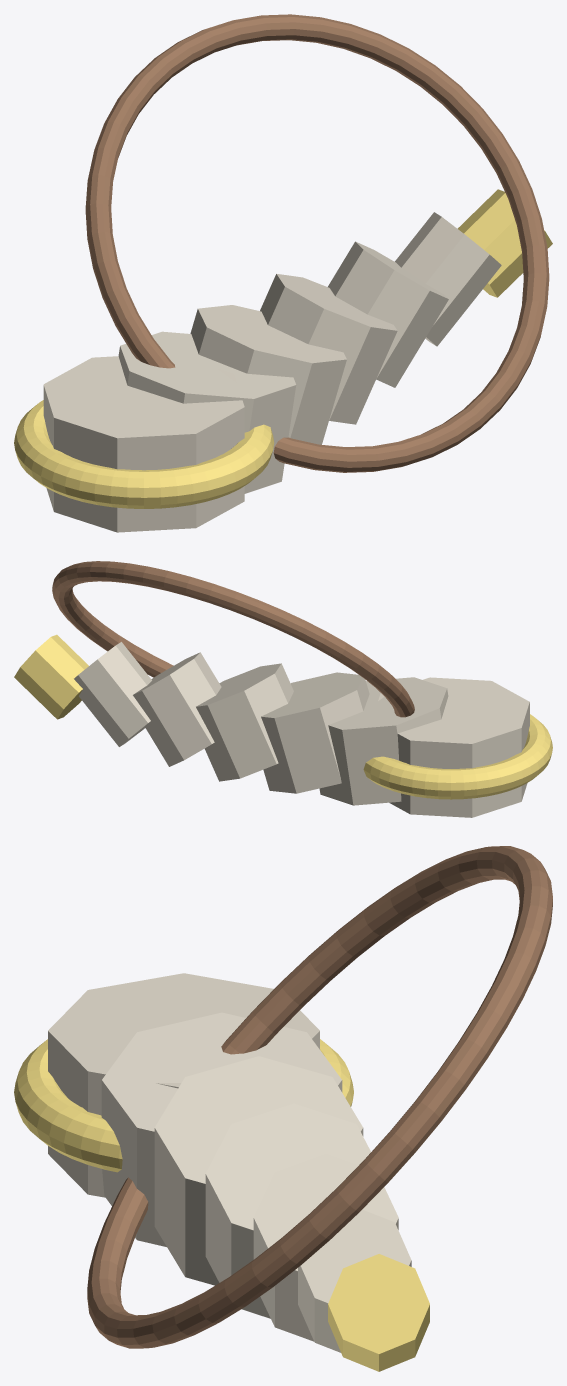
File: war_horn.glb
3 renders of one model, top to bottom at view 1: azimuth 30°, elevation 25°; view 2: azimuth 150°, elevation 25°; view 3: azimuth 270°, elevation 25°, orthographic. The views are drawn at different scales.
Visible parts, largest first — view 1: Torus.001, Cylinder, Torus, Cylinder.002, Cylinder.001, Cylinder.003, Cylinder.004, Cylinder.005, Cylinder.006; view 2: Cylinder, Torus.001, Cylinder.002, Cylinder.001, Cylinder.003, Torus, Cylinder.004, Cylinder.005, Cylinder.006; view 3: Torus.001, Cylinder.002, Cylinder.001, Cylinder, Cylinder.003, Cylinder.006, Cylinder.004, Torus, Cylinder.005.
Part boxes in pixels (<box>): Torus.001: <box>85,14,549,472</box>; Cylinder: <box>43,356,244,532</box>; Torus: <box>14,400,274,508</box>; Cylinder.002: <box>190,305,346,444</box>; Cylinder.001: <box>118,331,296,493</box>; Cylinder.003: <box>260,273,397,424</box>; Cylinder.004: <box>328,241,448,387</box>; Cylinder.005: <box>395,212,501,346</box>; Cylinder.006: <box>457,189,552,297</box>; Cylinder: <box>378,677,529,817</box>; Torus.001: <box>52,561,414,717</box>; Cylinder.002: <box>261,672,369,793</box>; Cylinder.001: <box>319,677,448,805</box>; Cylinder.003: <box>196,663,293,781</box>; Torus: <box>363,714,552,799</box>; Cylinder.004: <box>133,652,221,766</box>; Cylinder.005: <box>74,642,151,746</box>; Cylinder.006: <box>14,634,88,719</box>; Torus.001: <box>87,846,552,1348</box>; Cylinder.002: <box>154,1056,363,1285</box>; Cylinder.001: <box>101,1012,342,1246</box>; Cylinder: <box>48,973,319,1197</box>; Cylinder.003: <box>205,1103,370,1318</box>; Cylinder.006: <box>328,1254,429,1371</box>; Cylinder.004: <box>253,1154,398,1341</box>; Torus: <box>14,1039,353,1172</box>; Cylinder.005: <box>298,1209,411,1352</box>.
Bounding box in the file's own units: 0.5218 × 0.2801 × 0.3169.
